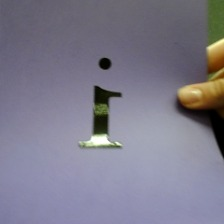violet1: (72, 53, 131, 152)
